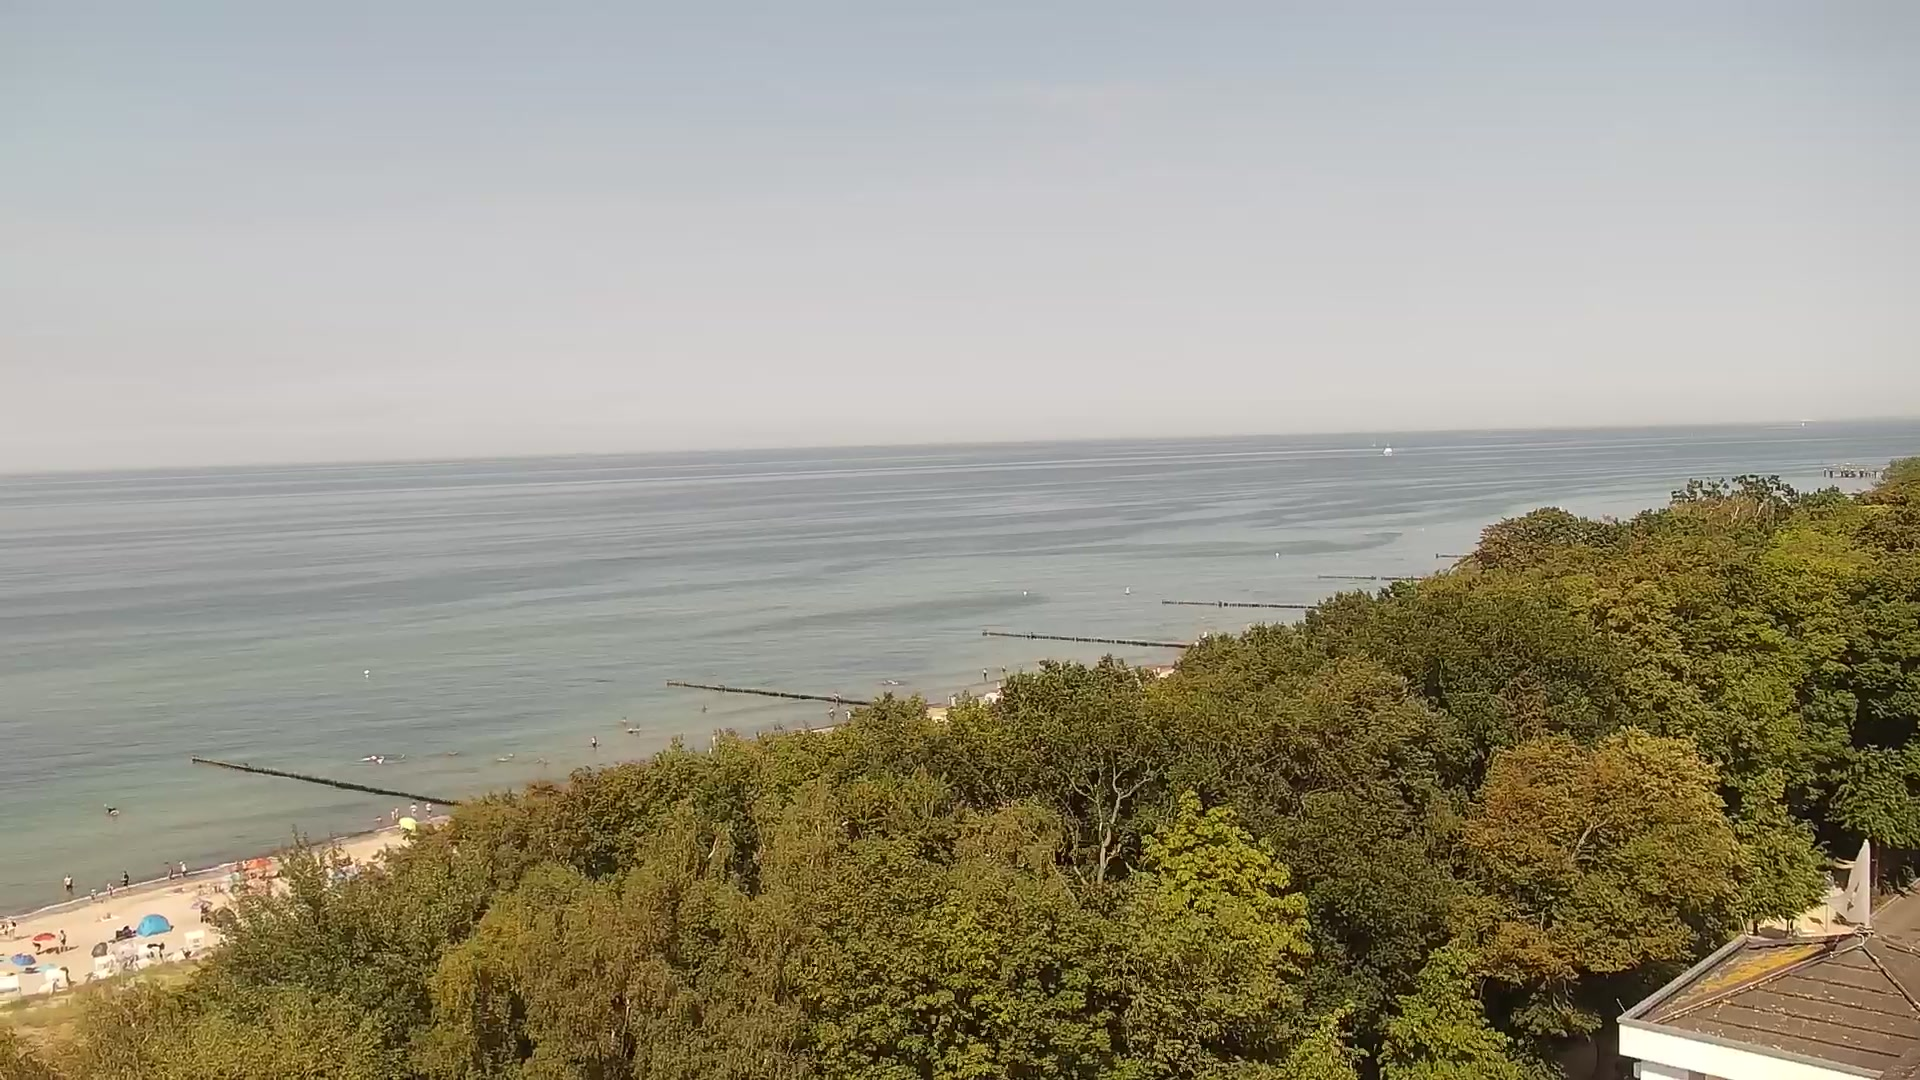human: (5, 915, 16, 940), (57, 929, 67, 952), (120, 870, 130, 892), (178, 860, 189, 879), (63, 874, 74, 893), (409, 801, 419, 819), (89, 887, 97, 902), (166, 866, 175, 881), (105, 881, 114, 897), (833, 690, 841, 706), (204, 881, 214, 894), (425, 800, 433, 815), (394, 805, 401, 822), (105, 805, 117, 813), (195, 883, 205, 896), (591, 735, 598, 749), (827, 706, 835, 717), (390, 809, 396, 821), (982, 667, 988, 680), (374, 814, 382, 822), (1000, 664, 1008, 672)
sea: (358, 753, 386, 765), (1383, 440, 1394, 458)
